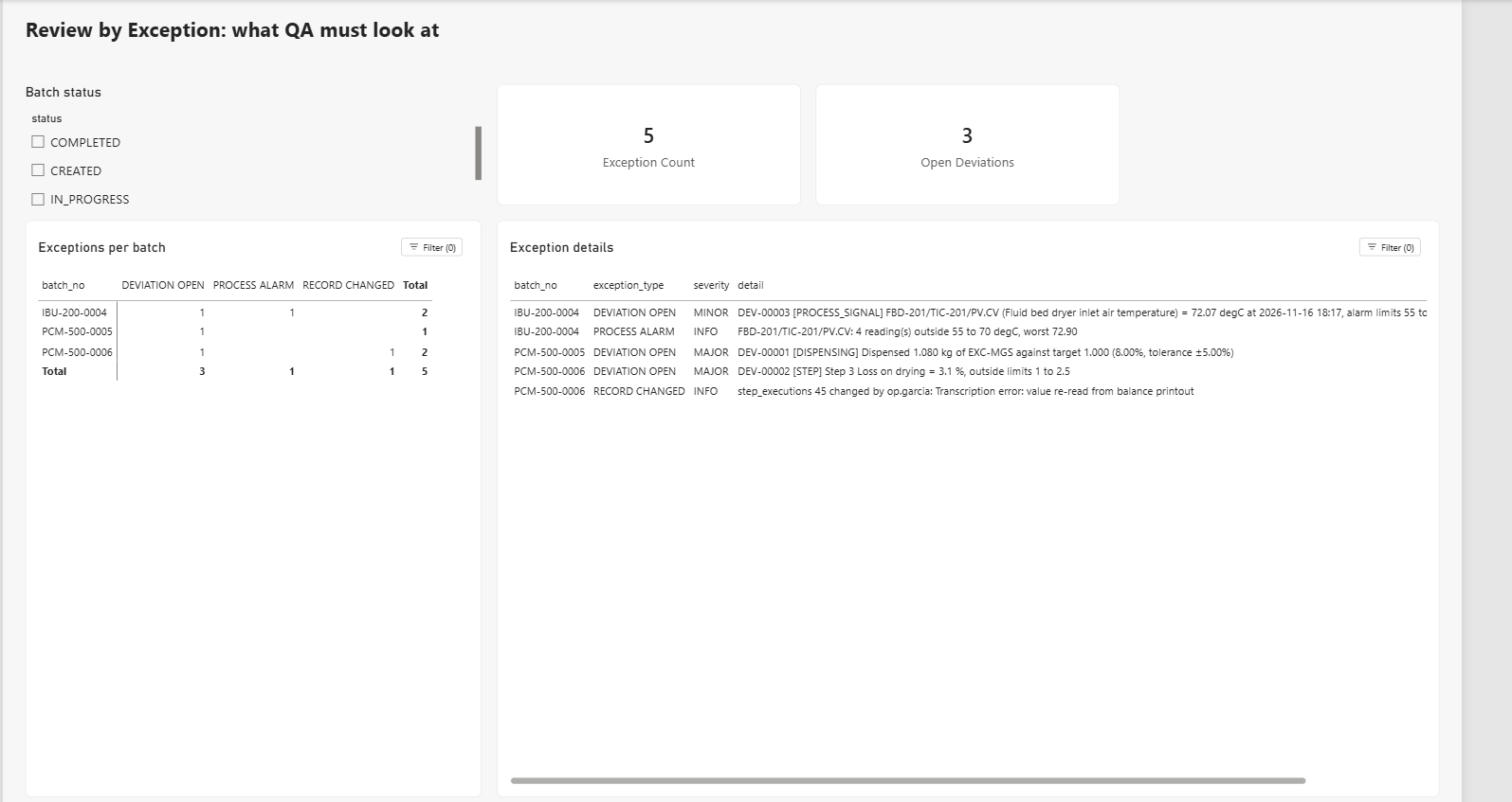

What the dashboard file says about the page in this screenshot:
{"tool":"powerbi","page":{"name":"Review by Exception","canvas":[1920,1080],"ordinal":1},"visuals":[{"type":"textbox","box":[30,20,1400,70],"z":0},{"type":"slicer","title":"Batch status","fields":{"Values":["BatchProgress.status"]},"box":[30,110,600,160],"z":1},{"type":"card","fields":{"Values":["Exceptions.Exception Count"]},"box":[650,110,400,160],"z":2},{"type":"card","fields":{"Values":["BatchProgress.Open Deviations"]},"box":[1070,110,400,160],"z":3},{"type":"pivotTable","title":"Exceptions per batch","fields":{"Columns":["Exceptions.exception_type"],"Rows":["Exceptions.batch_no"],"Values":["Exceptions.Exception Count"]},"box":[30,290,600,760],"z":4},{"type":"tableEx","title":"Exception details","fields":{"Values":["Exceptions.batch_no","Exceptions.exception_type","Exceptions.severity","Exceptions.detail","Exceptions.occurred_at"]},"box":[650,290,1240,760],"z":5}]}

Visuals, with their boxes on the page's 1920x1080 design canvas (x1, y1, x2, y2). These are canvas units, not pixel positions in the 1512x802 screenshot, which may show the page scaled, cropped or inside an application window:
textbox: BBox(30, 20, 1430, 90)
"Batch status" slicer: BBox(30, 110, 630, 270)
card - Exceptions.Exception Count: BBox(650, 110, 1050, 270)
card - BatchProgress.Open Deviations: BBox(1070, 110, 1470, 270)
"Exceptions per batch" pivotTable: BBox(30, 290, 630, 1050)
"Exception details" tableEx: BBox(650, 290, 1890, 1050)
